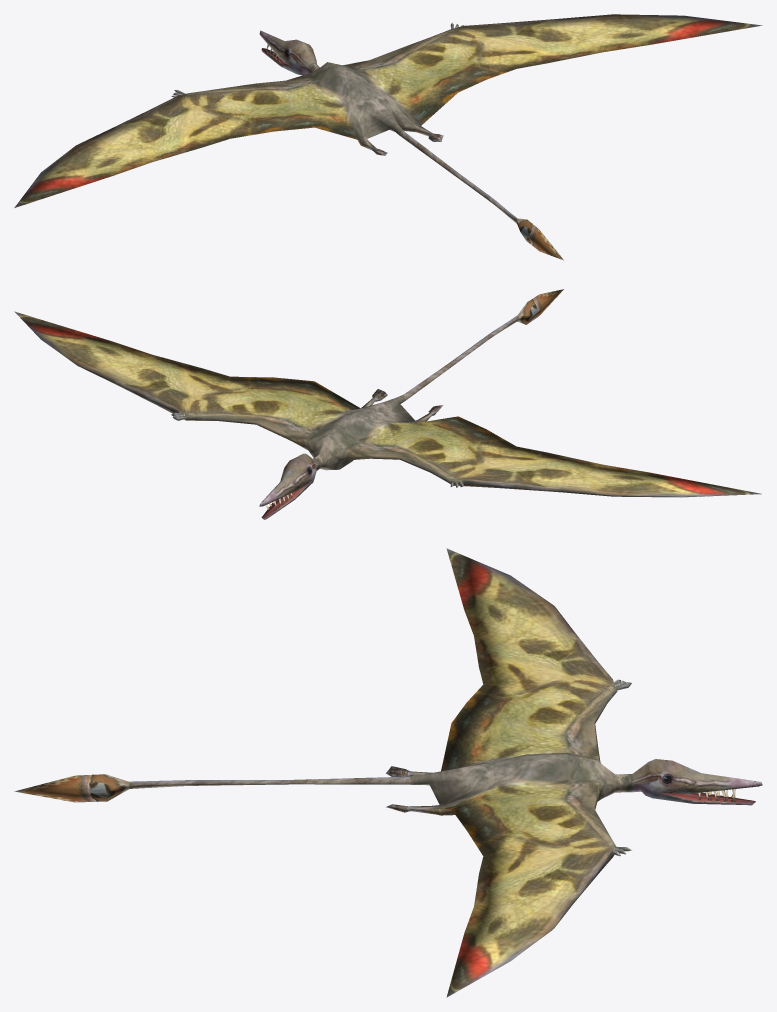
3 views of the same model, one above another, from view 1: azimuth 30°, elevation 25°; view 2: azimuth 150°, elevation 25°; view 3: azimuth 270°, elevation 25° (orthographic). The views are drawn at different scales.
Parts seen in each view (by area): view 1: Rhamphorhynchus; view 2: Rhamphorhynchus; view 3: Rhamphorhynchus.
Boxes of the visible parts, x1,y1,x2,y2 form: Rhamphorhynchus: (14,14,762,260); Rhamphorhynchus: (14,289,761,519); Rhamphorhynchus: (14,548,762,997).
Bounding box in the file's own units: 14.23 × 0.737 × 10.02.
1 material, 1 textured.
